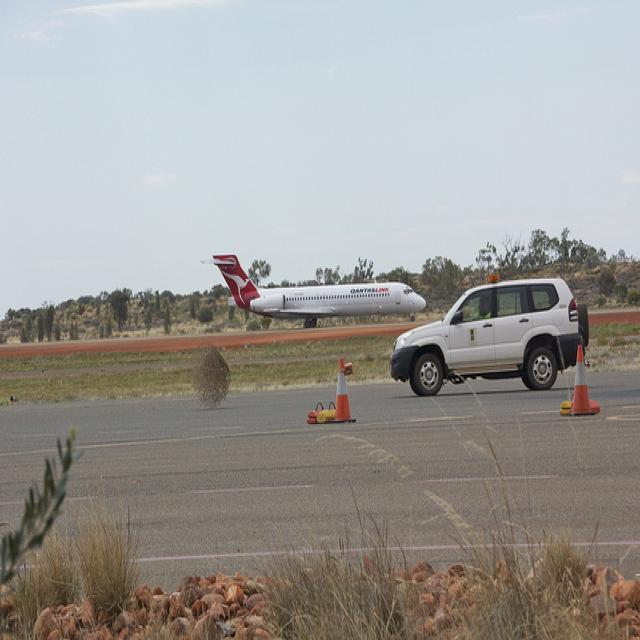Vehicle: (391, 270, 581, 400), (390, 275, 588, 398)
